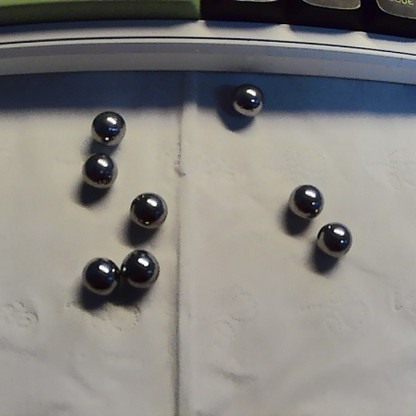ironball: (82, 101, 136, 146), (226, 81, 272, 128), (307, 222, 361, 261), (117, 242, 161, 289), (119, 188, 168, 227), (281, 175, 324, 216), (79, 250, 118, 294), (81, 150, 117, 190)
